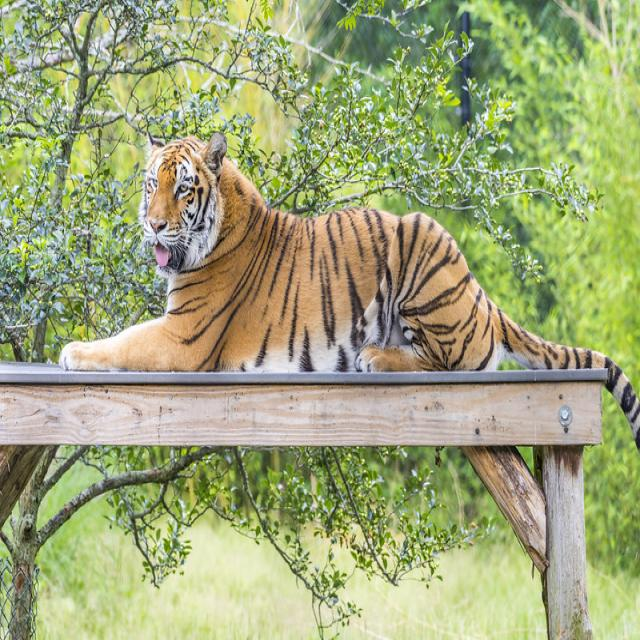Tiger: (52, 113, 618, 412)
